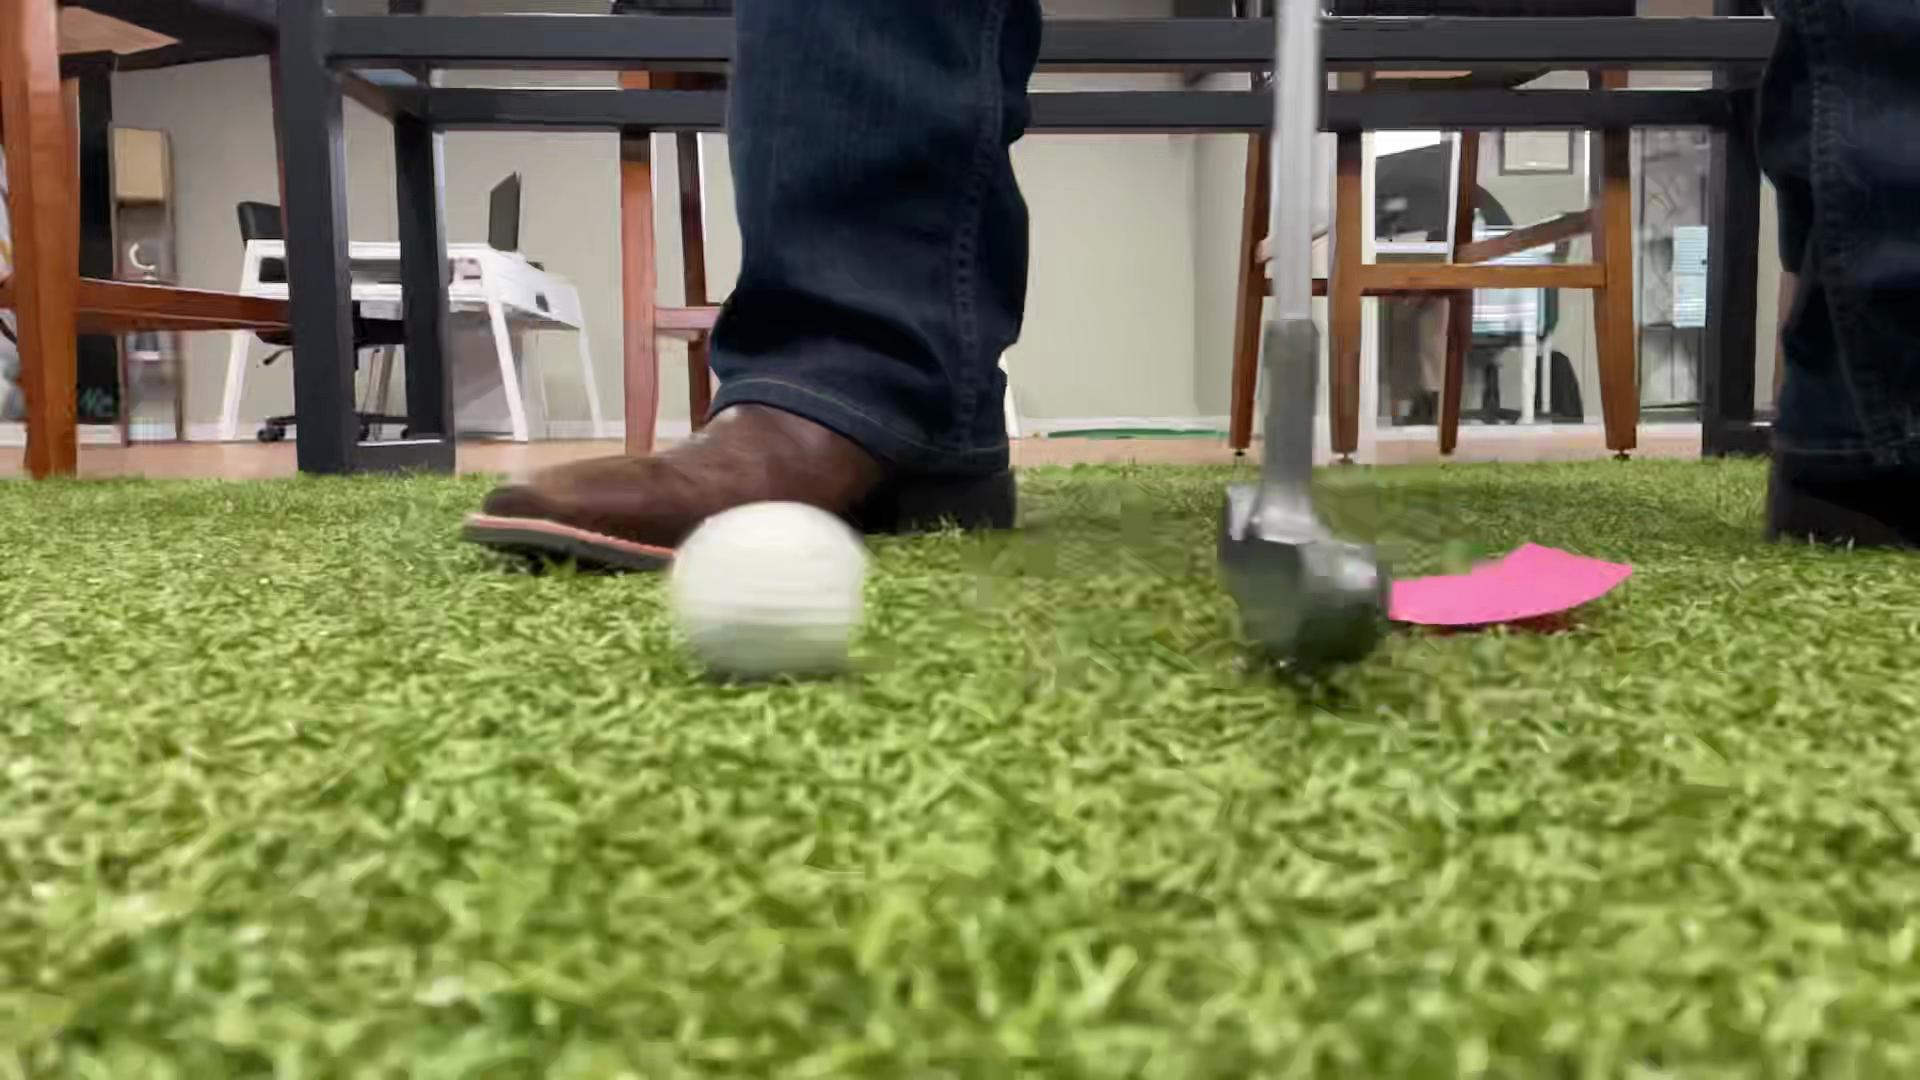golfball: (670, 502, 867, 678)
